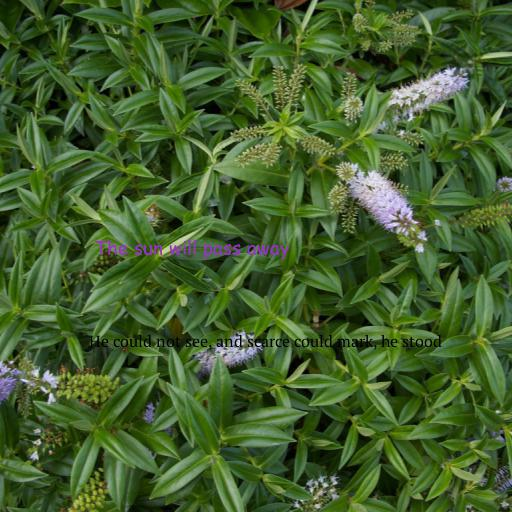Comic Sans MS: (94, 239, 290, 260)
PT Serif: (88, 334, 442, 350)
